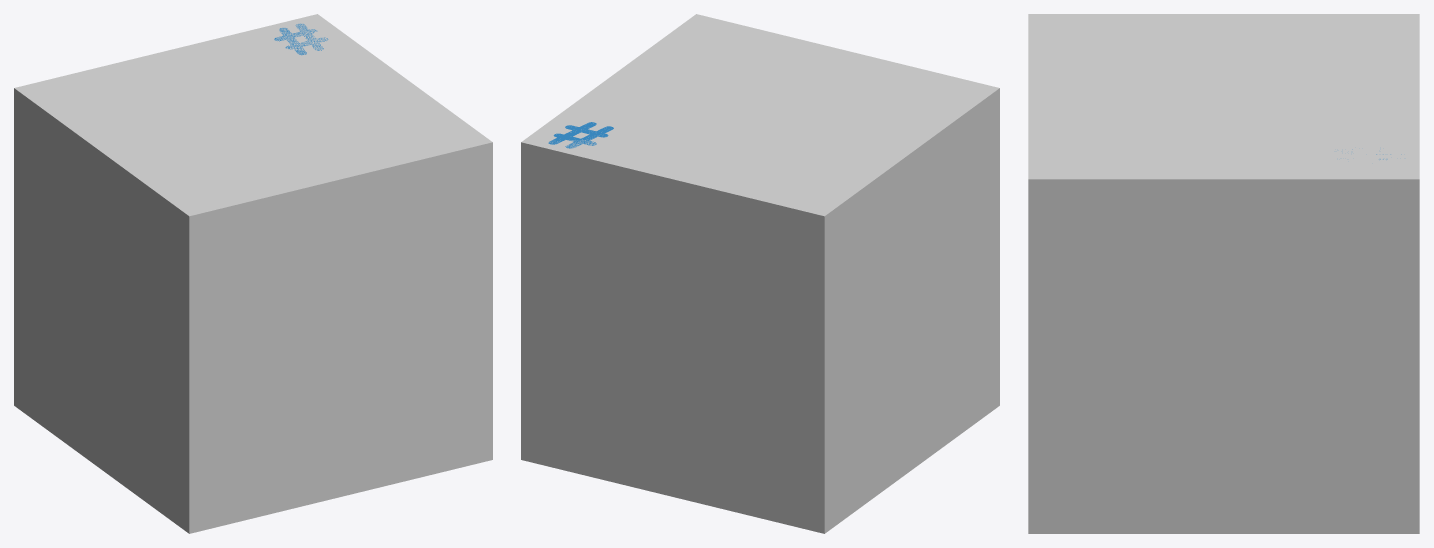
Rendered from message_hash.dae.
3 views of the same model, side by side, from view 1: azimuth 30°, elevation 25°; view 2: azimuth 150°, elevation 25°; view 3: azimuth 270°, elevation 25° (orthographic). The views are drawn at different scales.
Parts seen in each view (by area): view 1: Z_ClassFrame, A_Hash; view 2: Z_ClassFrame, A_Hash; view 3: Z_ClassFrame.
Part boxes in pixels (bbox=[...]): Z_ClassFrame: bbox=[14, 14, 492, 533]; A_Hash: bbox=[274, 23, 328, 55]; Z_ClassFrame: bbox=[521, 14, 999, 533]; A_Hash: bbox=[548, 122, 613, 148]; Z_ClassFrame: bbox=[1028, 14, 1419, 533].
Bounding box in the file's own units: 2 × 2 × 2.
Materials: 3 (2 with a texture image).
